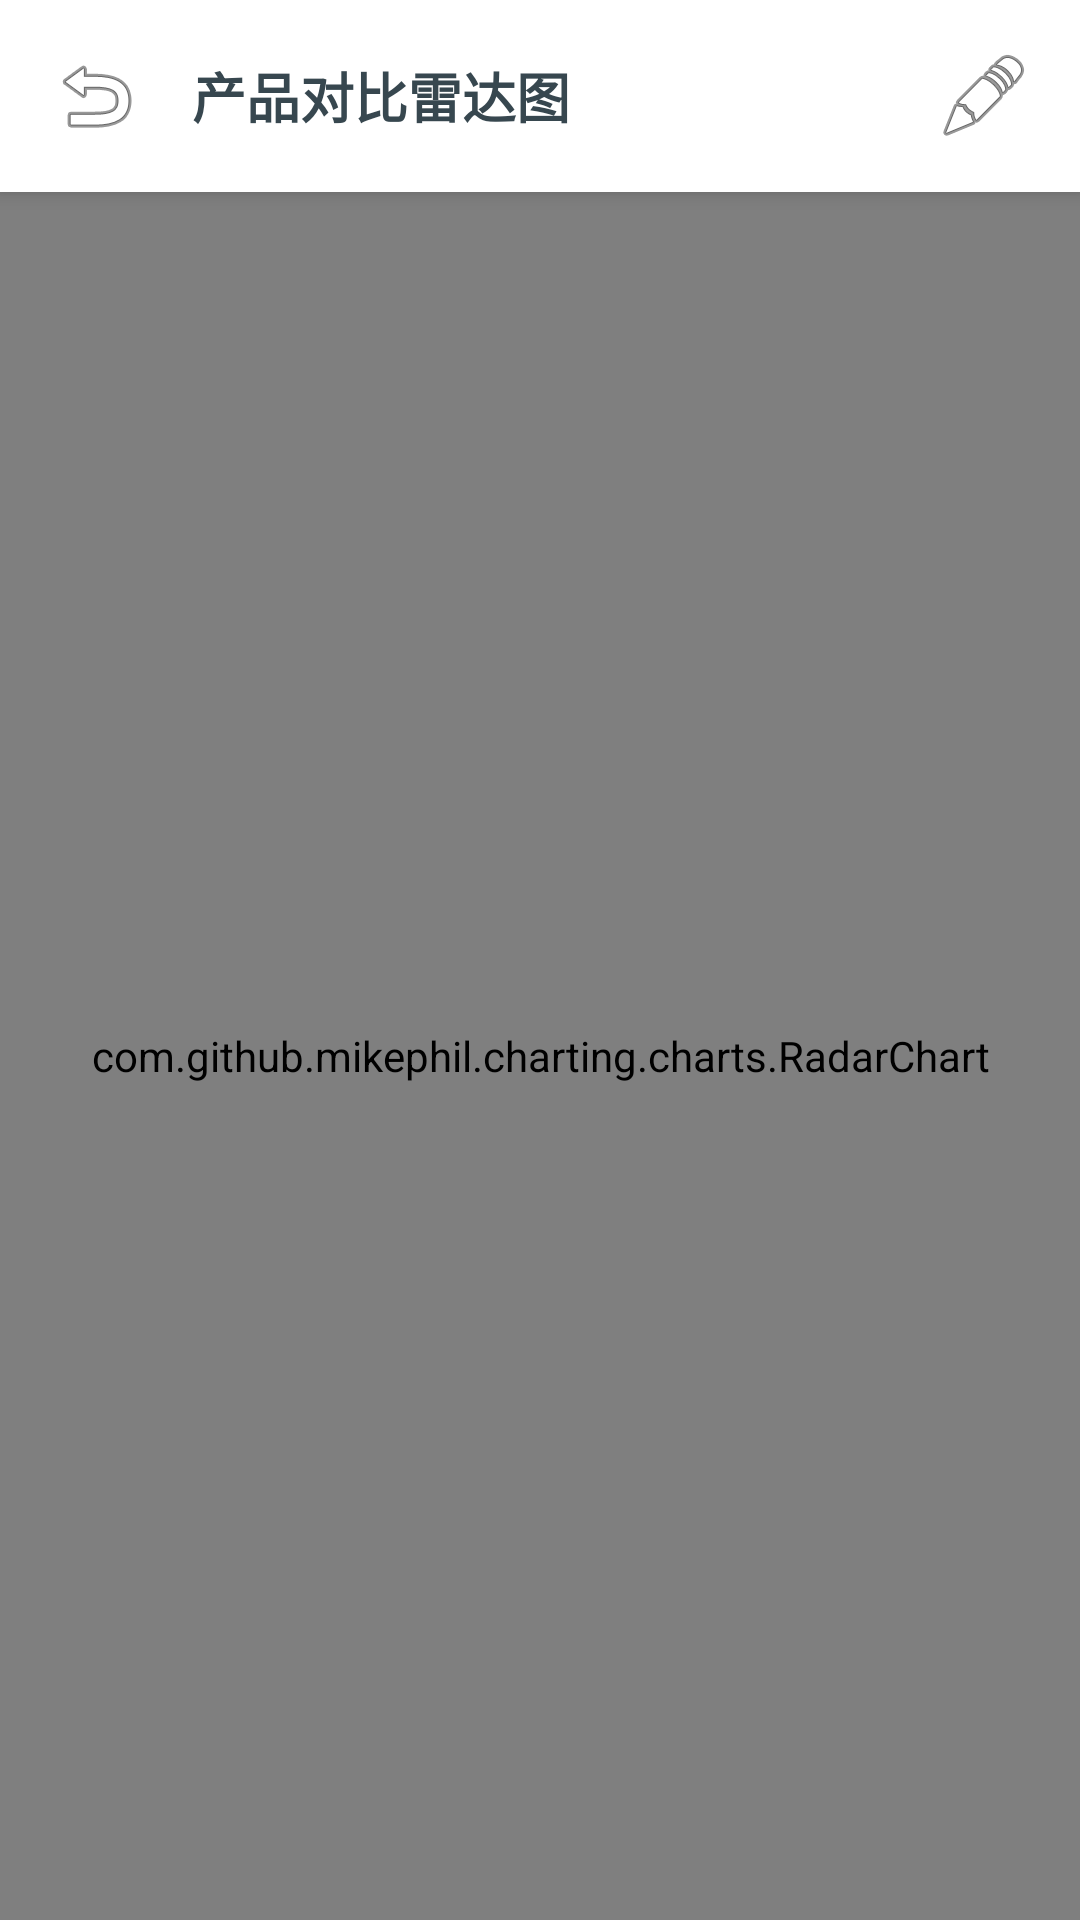

Where to tap for icons on this 1080px x 1920px app screen, as point (x, y):
返回: point (97, 96)
